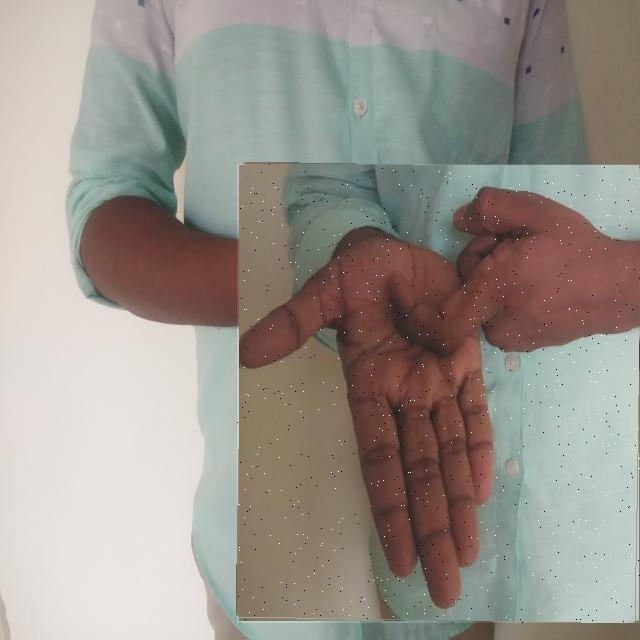R: (237, 164, 640, 623)
